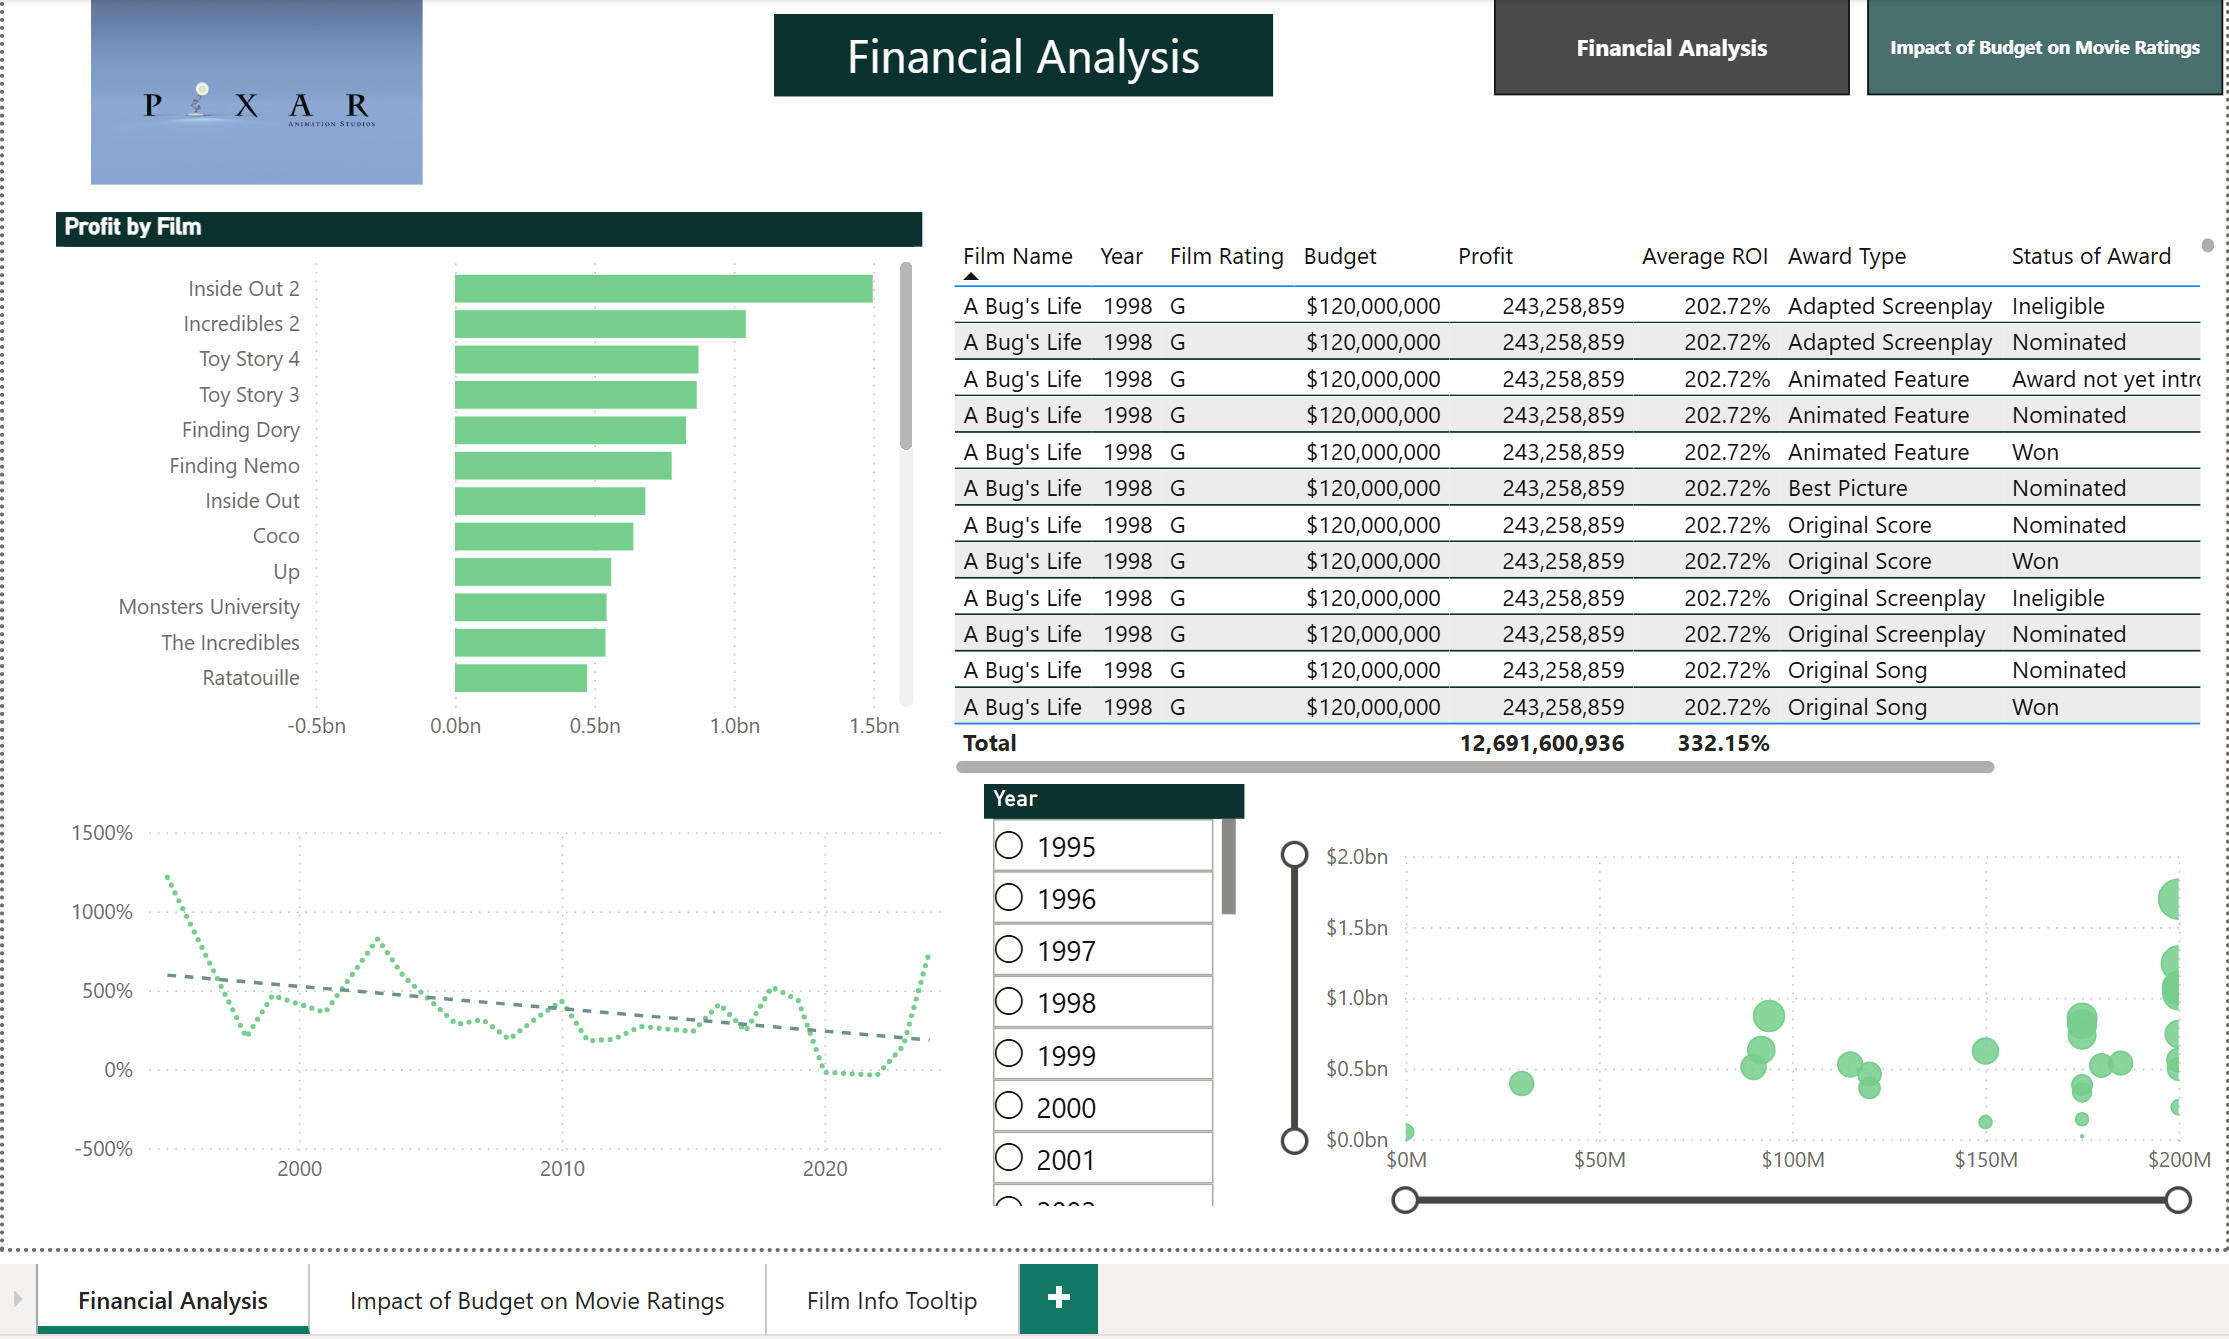

Layout of this report page (visuals, bound fields, positions):
{"tool":"powerbi","page":{"name":"Financial Analysis","canvas":[1280,720],"ordinal":0},"visuals":[{"type":"clusteredBarChart","title":"Profit by Film","fields":{"Category":["pixar_films.film"],"Y":["box_office.Profit"]},"box":[30,123.8,498.8,327.5],"z":0},{"type":"lineChart","title":"Average ROI Trend by Year","fields":{"Category":["pixar_films.release_date.Variation.Date Hierarchy.Year","pixar_films.release_date.Variation.Date Hierarchy.Quarter","pixar_films.release_date.Variation.Date Hierarchy.Month","pixar_films.release_date.Variation.Date Hierarchy.Day"],"Y":["box_office.Average ROI"]},"box":[16.2,451.2,535,250],"z":1000},{"type":"scatterChart","title":"Budget vs Box Office Performance","fields":{"Category":["pixar_films.film"],"Size":["box_office.Profit"],"X":["Sum(box_office.Budget)"],"Y":["Sum(box_office.Box Office Worldwide)"]},"box":[715,465,561.2,255],"z":2000},{"type":"listSlicer","fields":{"Values":["pixar_films.release_date.Variation.Date Hierarchy.Year"]},"box":[565,452.5,150,248.8],"z":3000},{"type":"pageNavigator","title":"Navigate To:","box":[858.3,0,421.7,56.7],"z":4000},{"type":"textbox","box":[443.8,8.8,287.5,47.5],"z":5000},{"type":"tableEx","title":"Movie Performance","fields":{"Values":["box_office.Film Name","pixar_films.release_date.Variation.Date Hierarchy.Year","pixar_films.film_rating","box_office.Budget","box_office.Profit","box_office.Average ROI","academy.award_type","academy.status","public_response.cinema_score"]},"box":[541.2,132.5,737.5,320],"z":6000},{"type":"image","box":[42.5,0,206.2,107.5],"z":7000}]}

Visuals, with their boxes on the page's 1280x720 design canvas (x1, y1, x2, y2). These are canvas units, not pixel positions in the 2229x1339 screenshot, which may show the page scaled, cropped or inside an application window:
"Profit by Film" clusteredBarChart: box(30, 124, 529, 451)
"Average ROI Trend by Year" lineChart: box(16, 451, 551, 701)
"Budget vs Box Office Performance" scatterChart: box(715, 465, 1276, 720)
listSlicer - pixar_films.release_date.Variation.Date Hierarchy.Year: box(565, 452, 715, 701)
"Navigate To:" pageNavigator: box(858, 0, 1280, 57)
textbox: box(444, 9, 731, 56)
"Movie Performance" tableEx: box(541, 132, 1279, 452)
image: box(42, 0, 249, 108)
